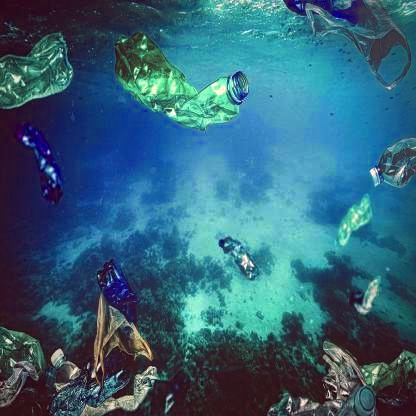can: (348, 382, 376, 416)
pbag: (293, 1, 413, 89), (83, 293, 157, 384)
pbottle: (111, 26, 250, 136), (0, 29, 76, 109), (14, 118, 76, 213), (0, 317, 56, 401), (101, 255, 140, 354), (329, 191, 380, 256), (370, 134, 416, 198), (39, 333, 84, 393), (216, 227, 259, 286)
